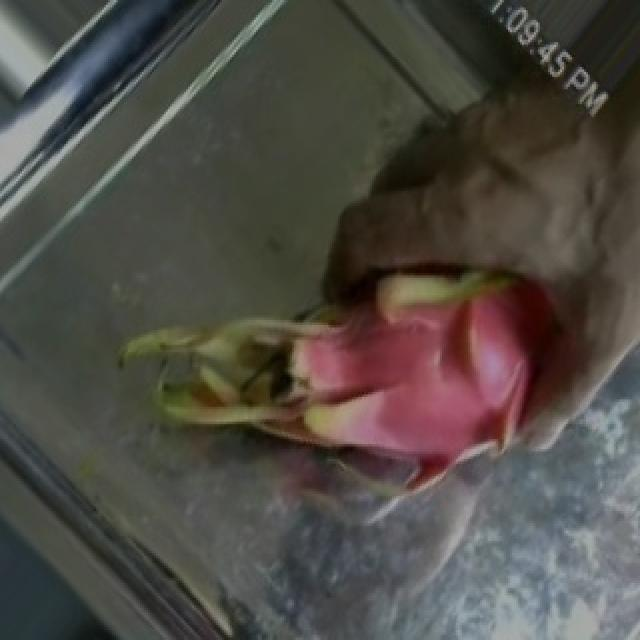fruit: (218, 168, 610, 550)
